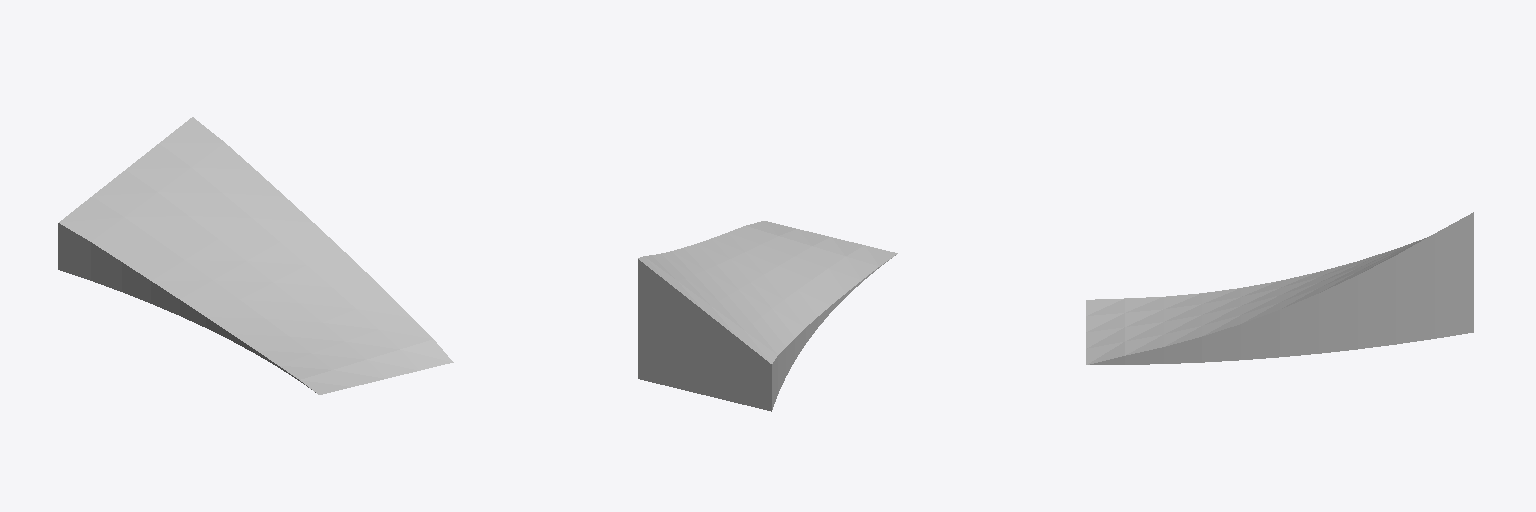
File: curved_ramp_V4_R.obj
3 renders of one model, left to right at view 1: azimuth 30°, elevation 25°; view 2: azimuth 150°, elevation 25°; view 3: azimuth 270°, elevation 25°, orthographic.
Parts seen in each view (by area): view 1: Cube.001; view 2: Cube.001; view 3: Cube.001.
Boxes of the visible parts, x1,y1,x2,y2 form: Cube.001: [58, 117, 453, 394]; Cube.001: [638, 221, 897, 411]; Cube.001: [1086, 212, 1473, 364].
Size of the model in its own units: 1.2 by 0.6853 by 2.